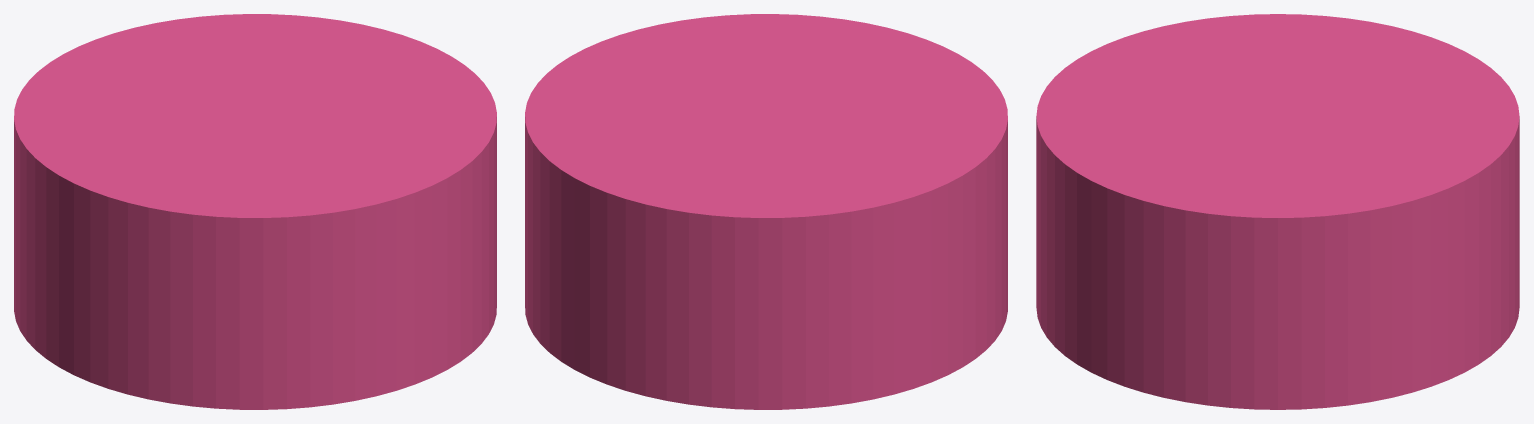
3 views of the same model, side by side, from view 1: azimuth 30°, elevation 25°; view 2: azimuth 150°, elevation 25°; view 3: azimuth 270°, elevation 25° (orthographic).
Visible parts, largest first — view 1: Cylinder.026; view 2: Cylinder.026; view 3: Cylinder.026.
Boxes of the visible parts, bbox=[...] form: Cylinder.026: bbox=[14, 14, 496, 409]; Cylinder.026: bbox=[525, 14, 1007, 409]; Cylinder.026: bbox=[1036, 14, 1519, 409].
Bounding box in the file's own units: 0.00563 × 0.00246 × 0.00563.
